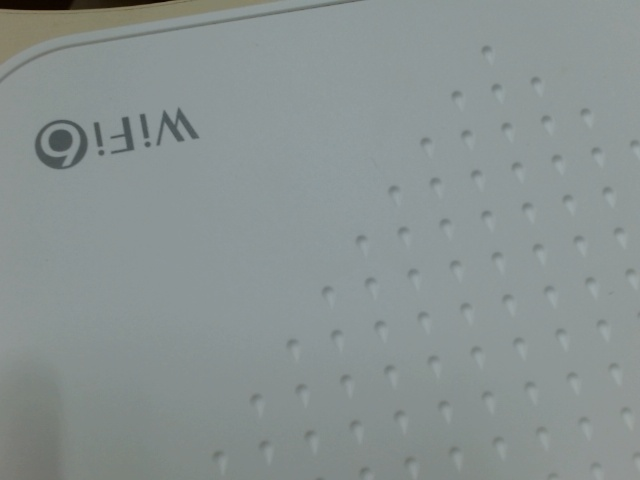AK_ZTEWIFI6: (29, 102, 209, 179)
